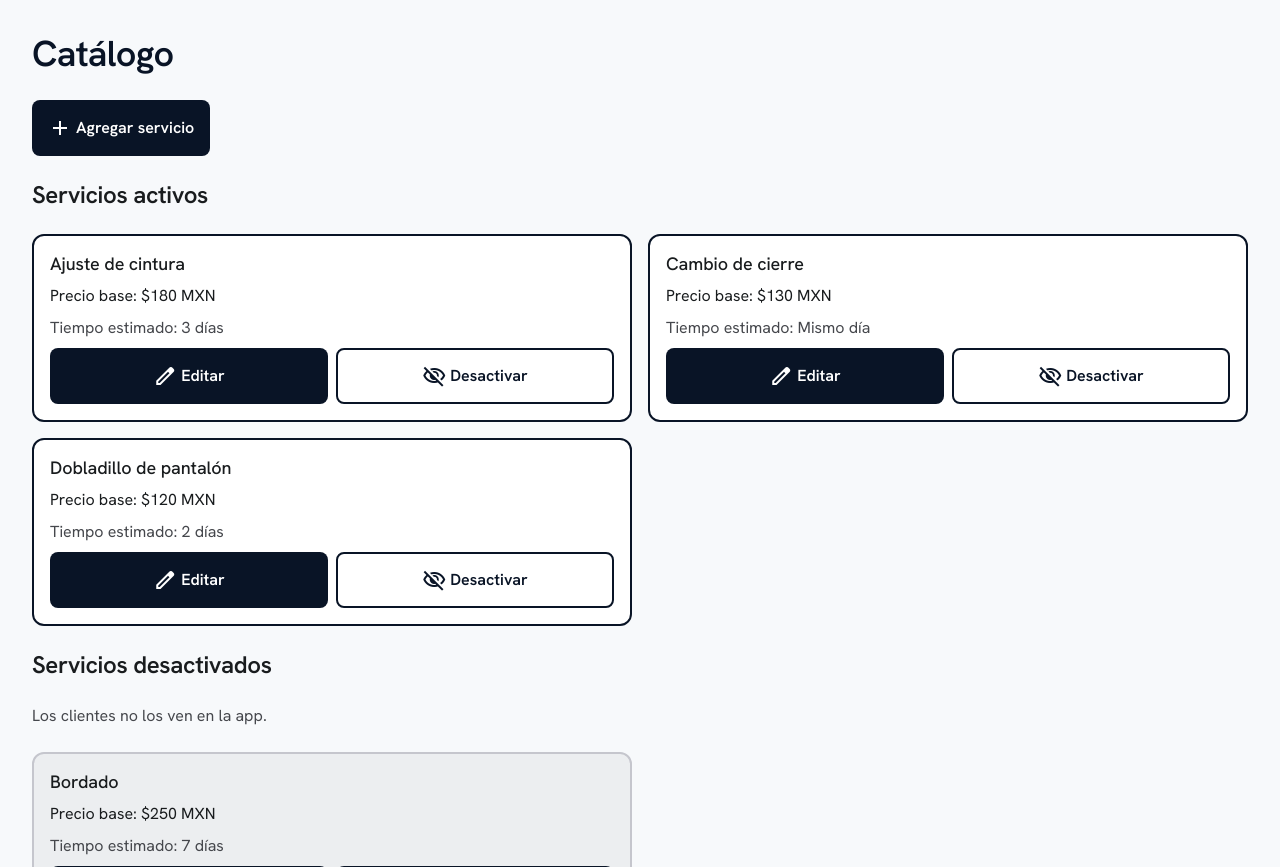
Test case: Price quoted in store › asks for the base price again when switching back to it
The image size is (1280, 867).
Step 1. Click the button "Agregar servicio" → (121, 128), box x1=32 y1=100 x2=210 y2=156
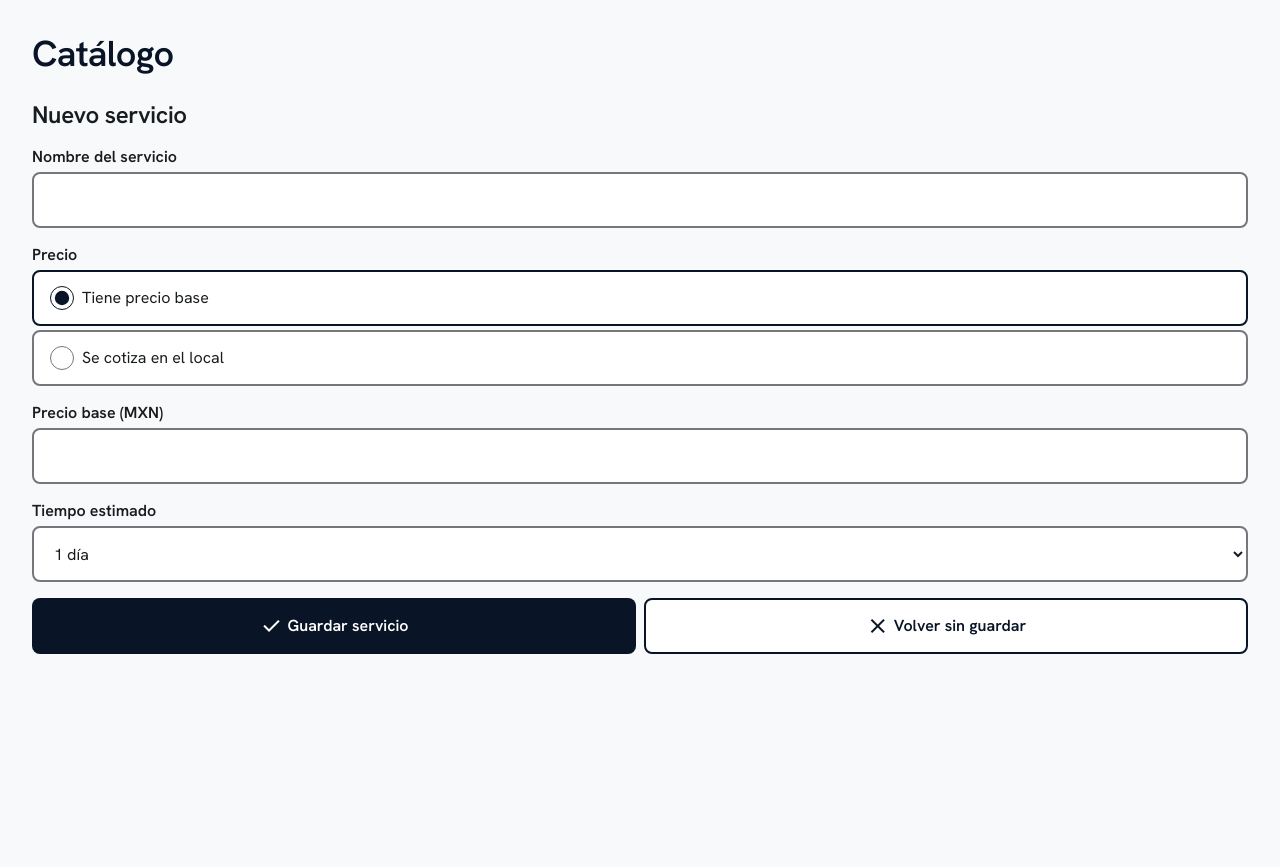
Step 2. Type "Vestido de novia" into the field labelled "Nombre del servicio" → (640, 200), box x1=32 y1=172 x2=1248 y2=228
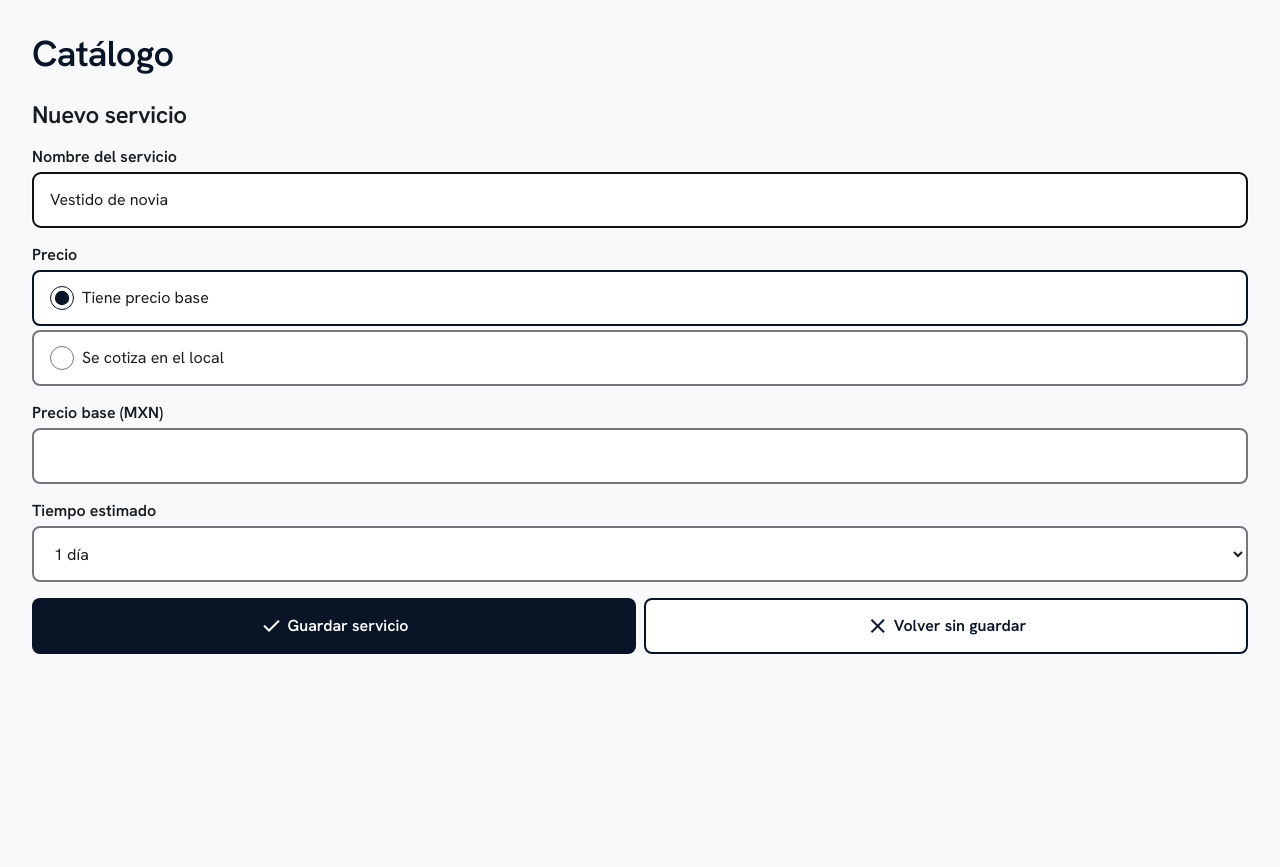
Step 3. Click the radio button labelled "Se cotiza en el local" → (62, 358), box x1=50 y1=346 x2=74 y2=370
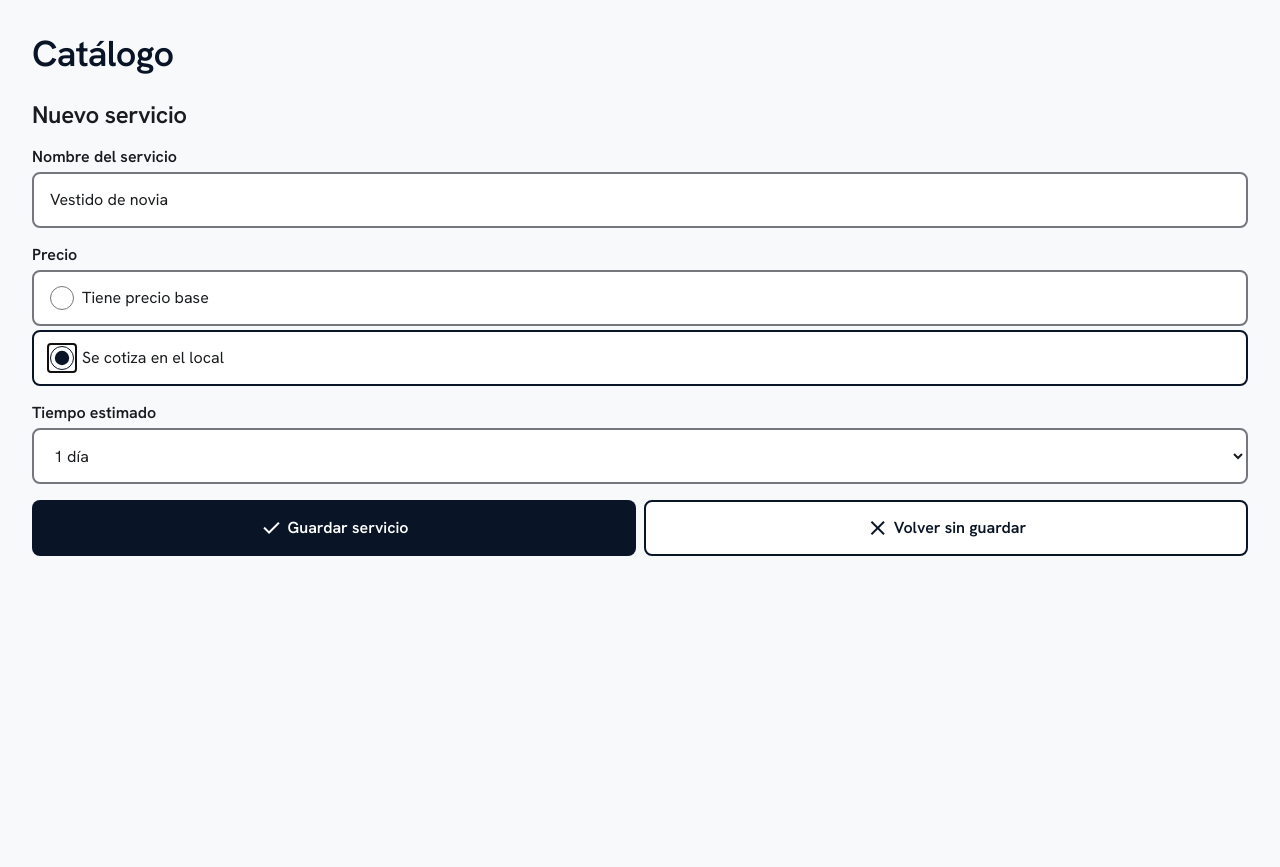
Step 4. Click the radio button labelled "Tiene precio base" → (62, 298), box x1=50 y1=286 x2=74 y2=310
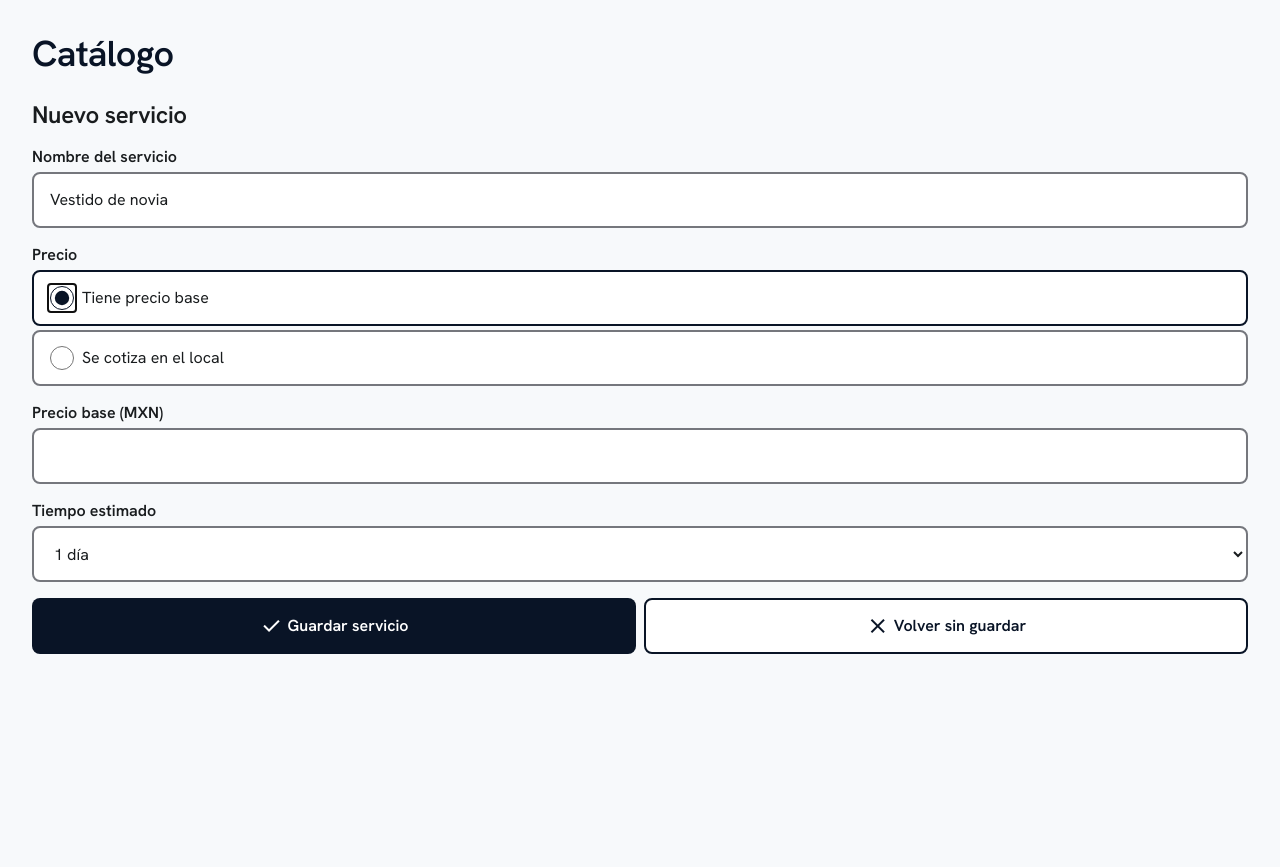
Step 5. Click the button "Guardar servicio" → (334, 626), box x1=32 y1=598 x2=636 y2=654
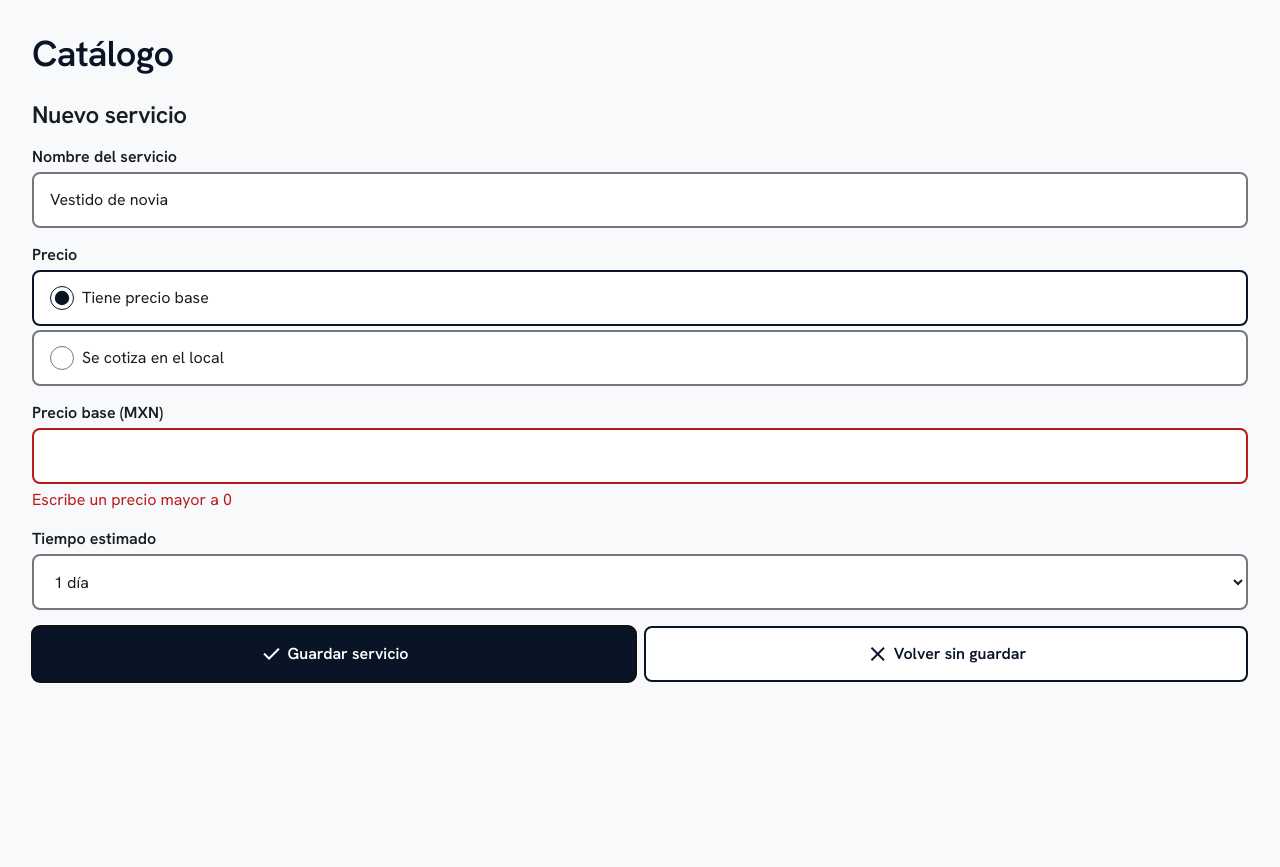
expect the text "Escribe un precio mayor a 0" is shown: met, box x1=32 y1=489 x2=232 y2=510
